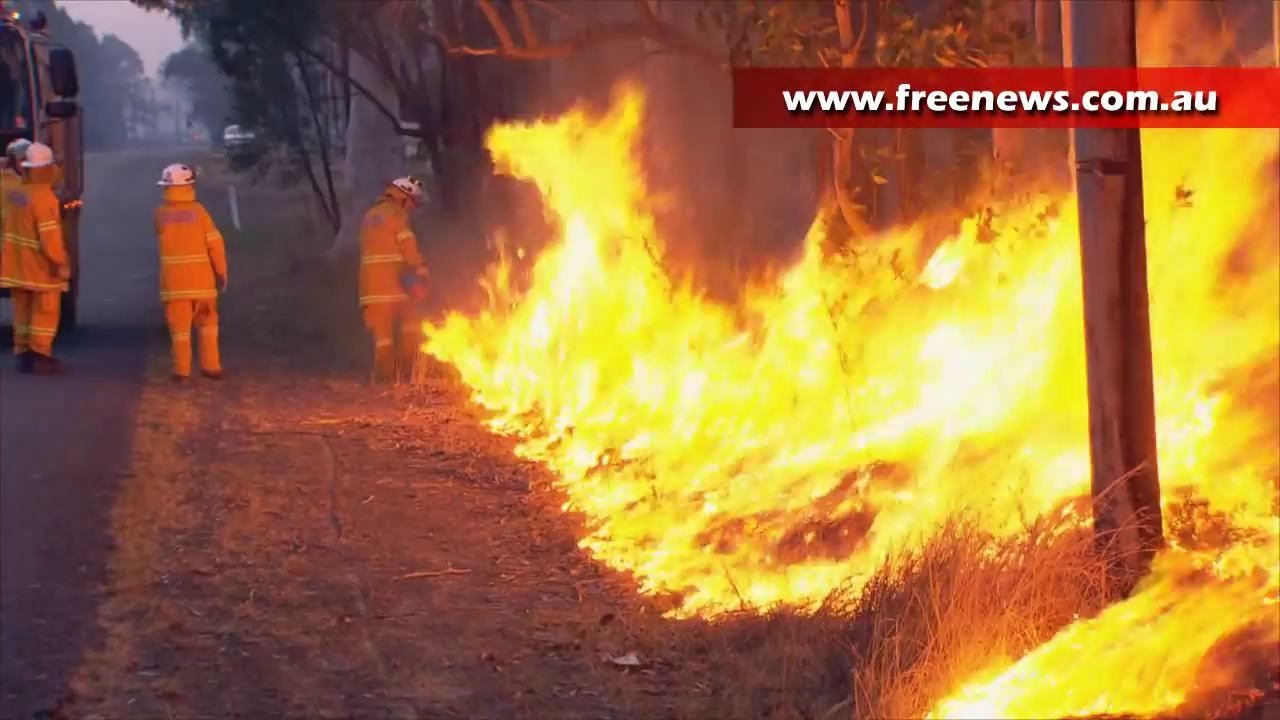fire: (423, 123, 1090, 621), (934, 547, 1280, 720), (1143, 129, 1276, 537)
